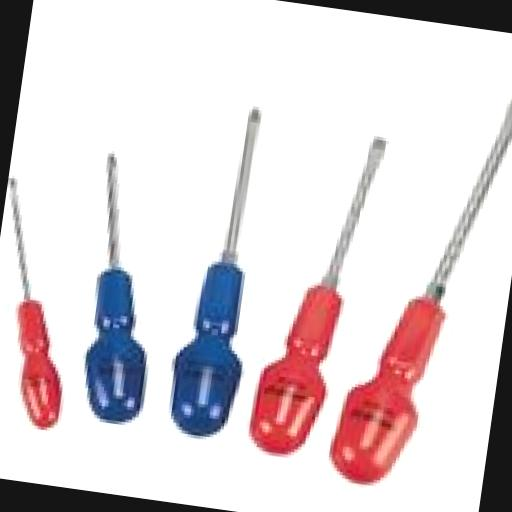screwdriver: (326, 61, 512, 500), (246, 124, 390, 467), (164, 100, 278, 444), (72, 153, 179, 428), (0, 177, 91, 432)
